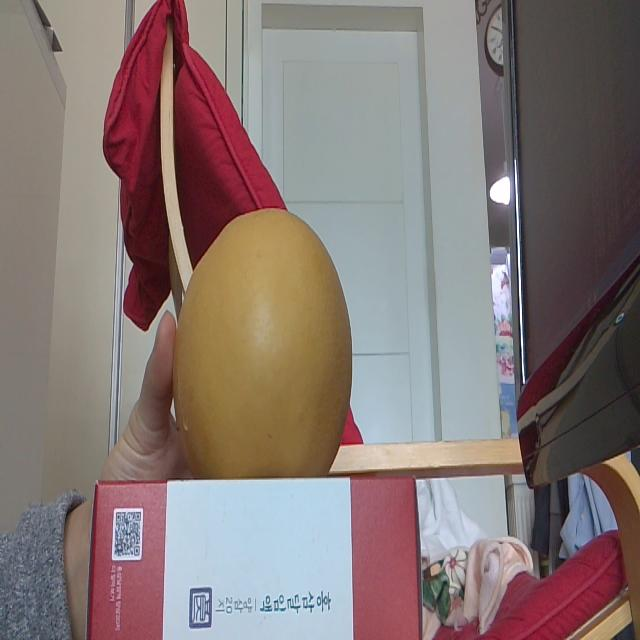pear: (173, 207, 353, 480)
